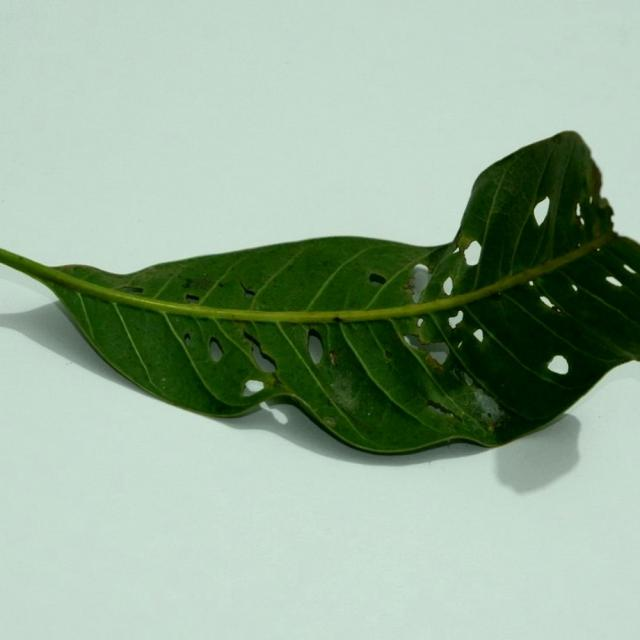Anthracnose: (217, 329, 281, 387), (454, 368, 501, 422), (404, 332, 453, 366), (407, 266, 432, 302), (177, 277, 218, 295), (425, 399, 458, 421), (259, 400, 287, 422), (307, 331, 324, 363), (462, 241, 481, 266), (546, 354, 569, 374), (533, 199, 549, 224), (243, 330, 262, 350), (209, 338, 223, 362), (239, 281, 256, 299), (447, 310, 464, 328), (441, 276, 455, 296), (368, 272, 387, 286), (539, 295, 556, 310), (117, 285, 144, 294), (403, 334, 418, 348), (605, 275, 621, 288), (454, 366, 467, 382), (328, 349, 340, 366), (232, 318, 250, 329), (472, 328, 485, 343), (462, 371, 474, 387), (489, 291, 503, 302), (184, 294, 200, 303), (551, 305, 564, 315), (183, 332, 191, 346), (385, 350, 394, 360), (416, 318, 425, 328), (332, 316, 343, 324)
Mango: (0, 132, 639, 460)
